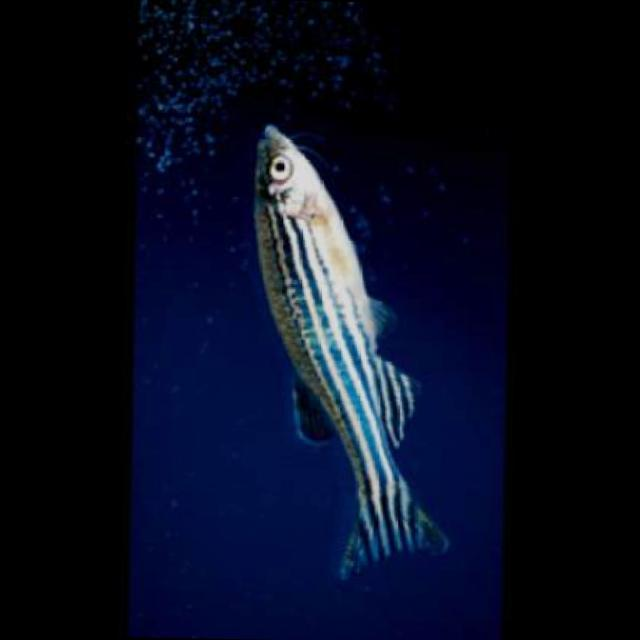ZebraFish: (243, 124, 454, 579)
